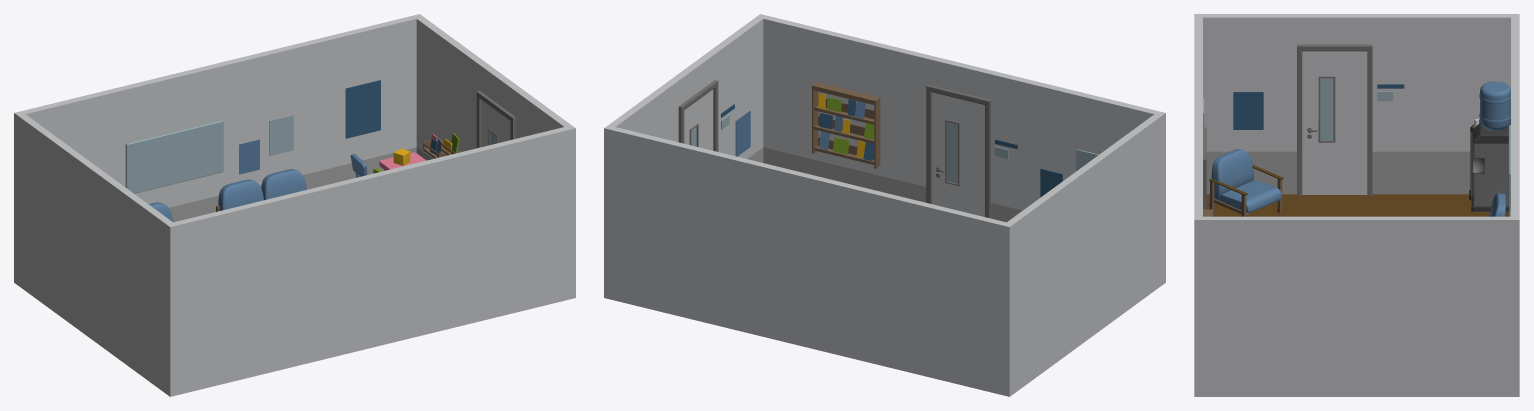
The model's file is SM_WaitingRoom_BlockOut.fbx.
3 views of the same model, side by side, from view 1: azimuth 30°, elevation 25°; view 2: azimuth 150°, elevation 25°; view 3: azimuth 270°, elevation 25° (orthographic). The views are drawn at different scales.
Visible parts, largest first — view 1: SM_Wall_01, SM_Wall_03, SM_Wall_02, SM_Wall_04, SM_Furniture; view 2: SM_Wall_03, SM_Wall_01, SM_Wall_02, SM_Wall_04; view 3: SM_Wall_04, SM_Wall_02, SM_Furniture, SM_Floor, SM_Wall_01, SM_Wall_03.
Part boxes in pixels (bbox=[...]): SM_Wall_01: bbox=[173, 127, 568, 394]; SM_Wall_03: bbox=[21, 16, 416, 222]; SM_Wall_02: bbox=[14, 111, 177, 396]; SM_Wall_04: bbox=[413, 14, 575, 299]; SM_Furniture: bbox=[148, 148, 426, 221]; SM_Wall_03: bbox=[611, 127, 1006, 394]; SM_Wall_01: bbox=[763, 16, 1158, 222]; SM_Wall_02: bbox=[1002, 111, 1165, 396]; SM_Wall_04: bbox=[604, 14, 766, 299]; SM_Wall_04: bbox=[1194, 216, 1519, 396]; SM_Wall_02: bbox=[1194, 14, 1519, 196]; SM_Furniture: bbox=[1209, 81, 1510, 216]; SM_Floor: bbox=[1206, 194, 1508, 216]; SM_Wall_01: bbox=[1194, 17, 1212, 216]; SM_Wall_03: bbox=[1508, 17, 1519, 216].
Size of the model in its own units: 600 by 244 by 400.
